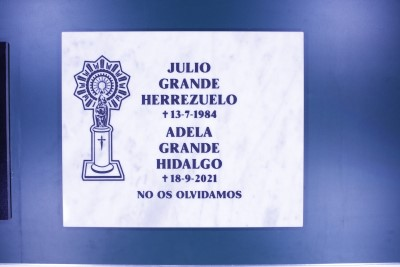lapidas: (61, 30, 303, 227)
